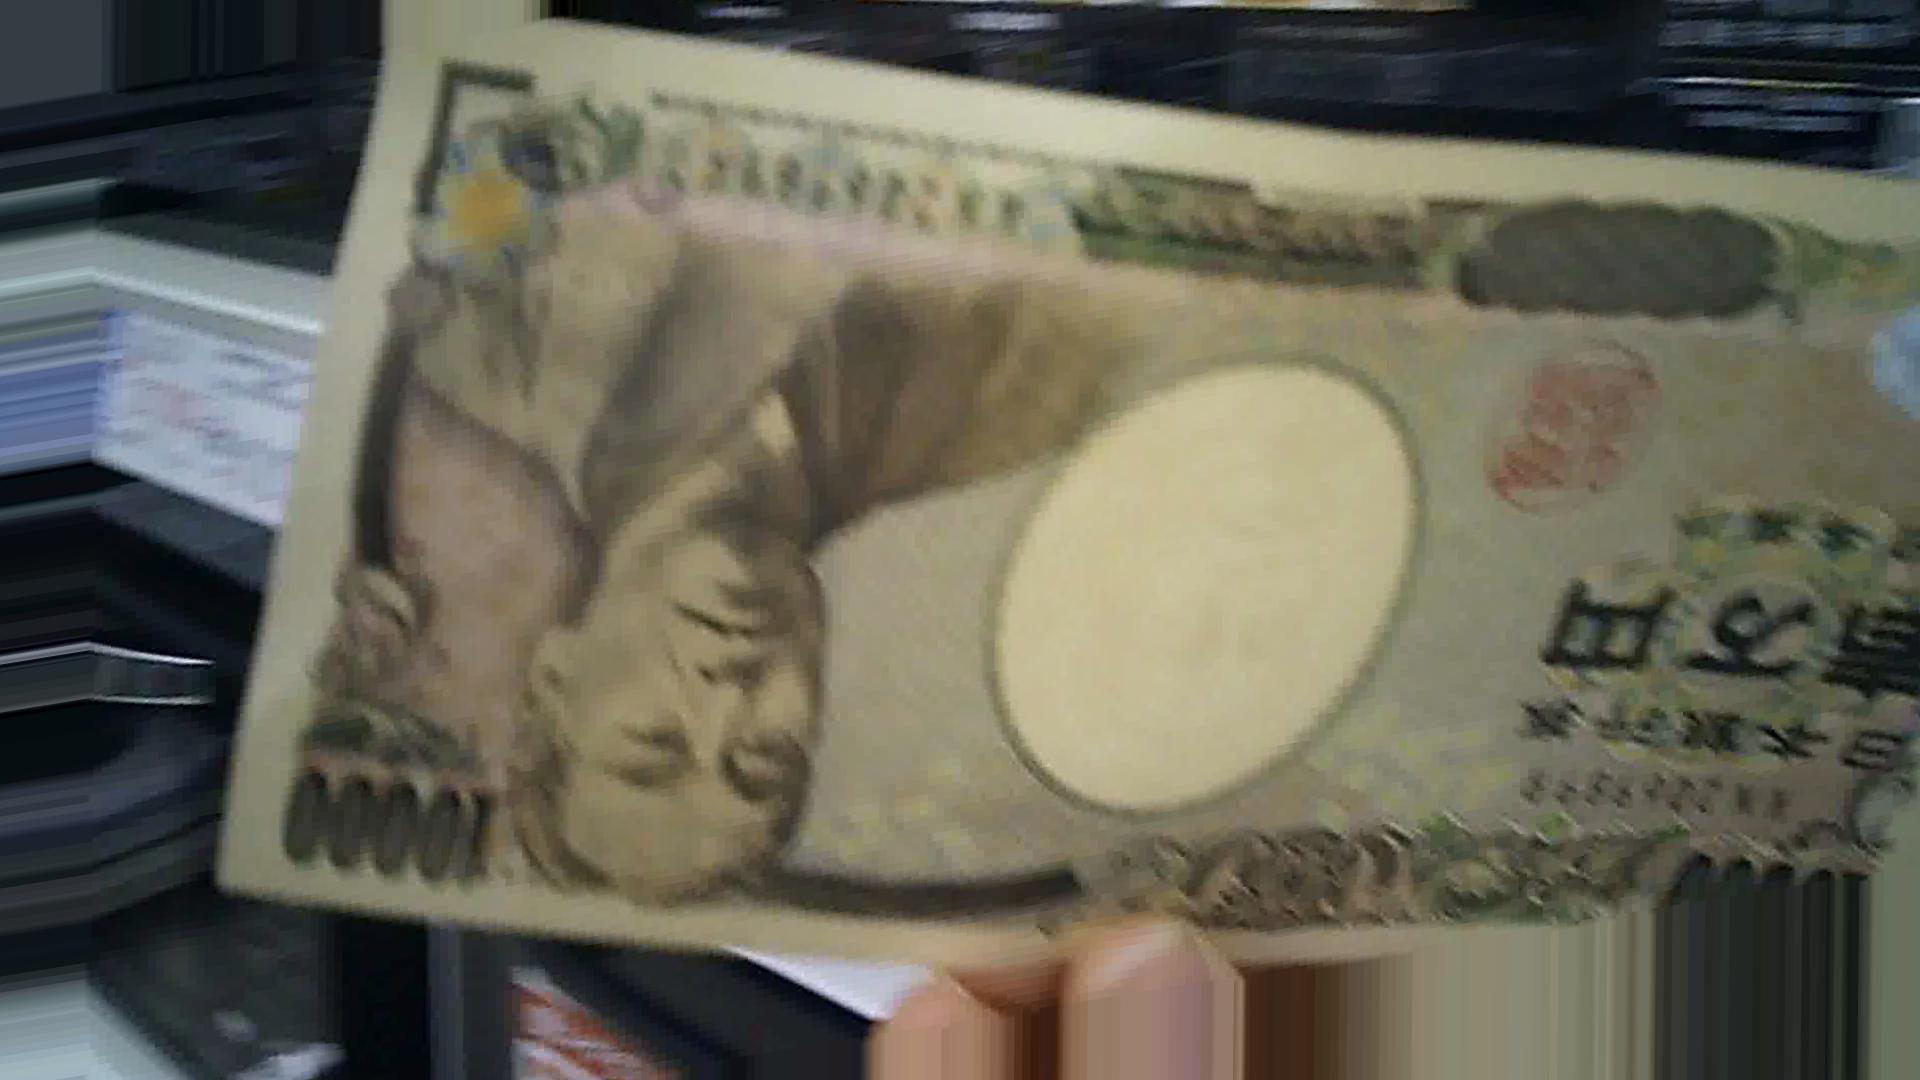10,000 Yen: (208, 16, 1912, 938)
